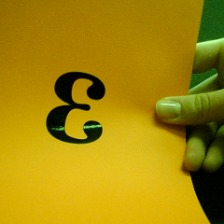orange3: (43, 68, 112, 150)
